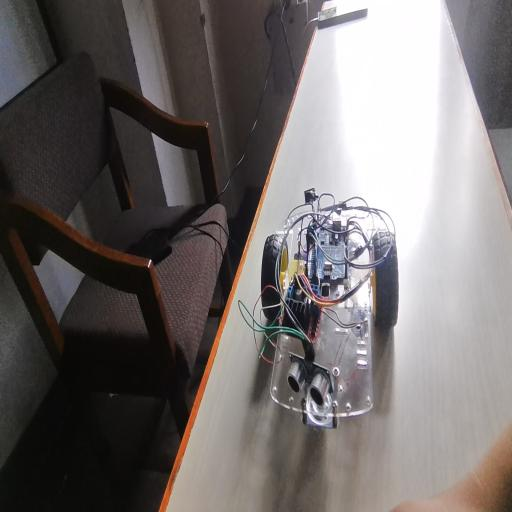car: (265, 132, 452, 510)
